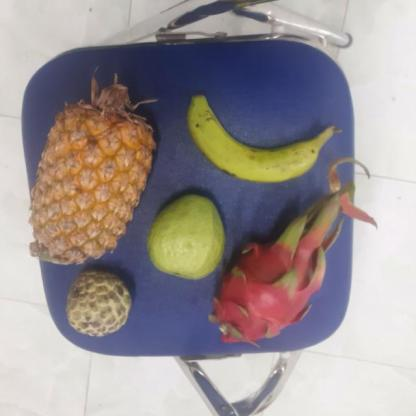annona: (66, 270, 136, 337)
banana: (188, 101, 338, 181)
guava: (148, 194, 228, 279)
pineapple: (33, 100, 157, 265)
pitaya: (214, 236, 322, 344)
